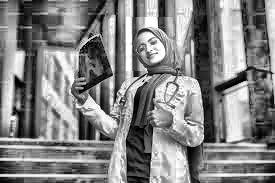happy: (127, 17, 174, 71)
